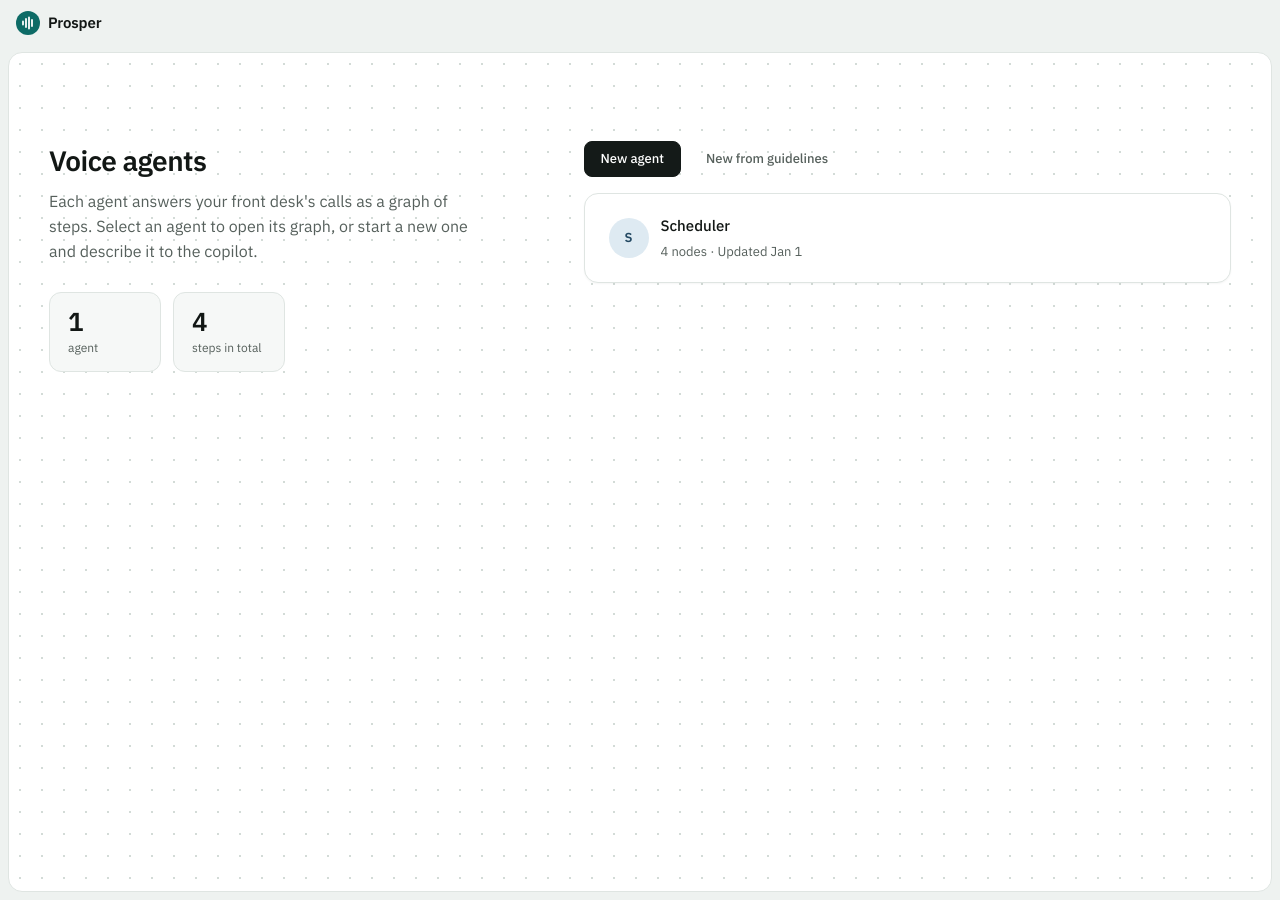
Test: a failed create shows a toast and leaves the list alone
expect the link "S Scheduler 4 nodes · Updated Jan 1" is shown: met, box [608,216,802,260]
Step 1. Click the button "New agent" → [632, 159], box [584,141,681,177]
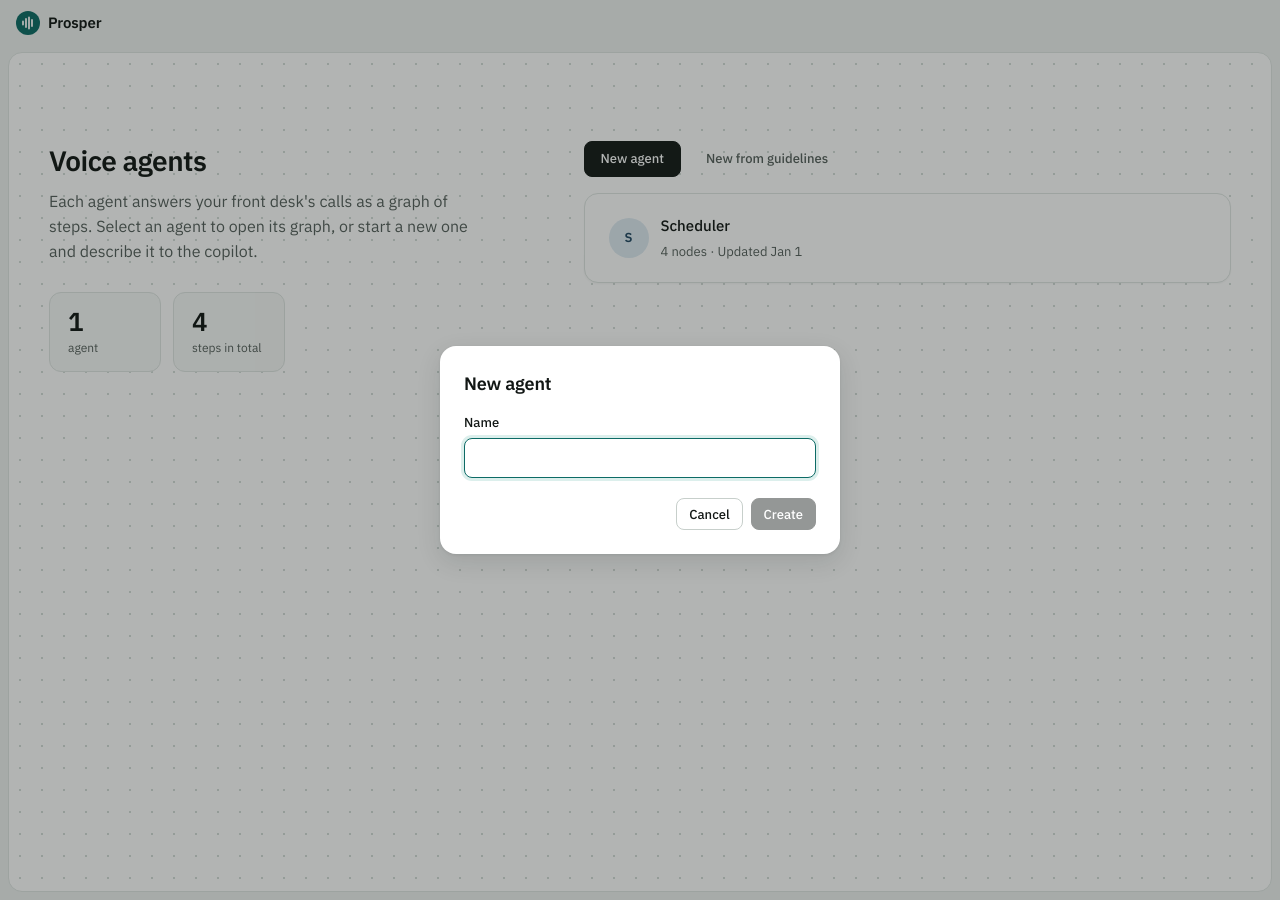
Step 2. Type "Intake" into the field labelled "Name" → [640, 458], box [464,438,816,478]
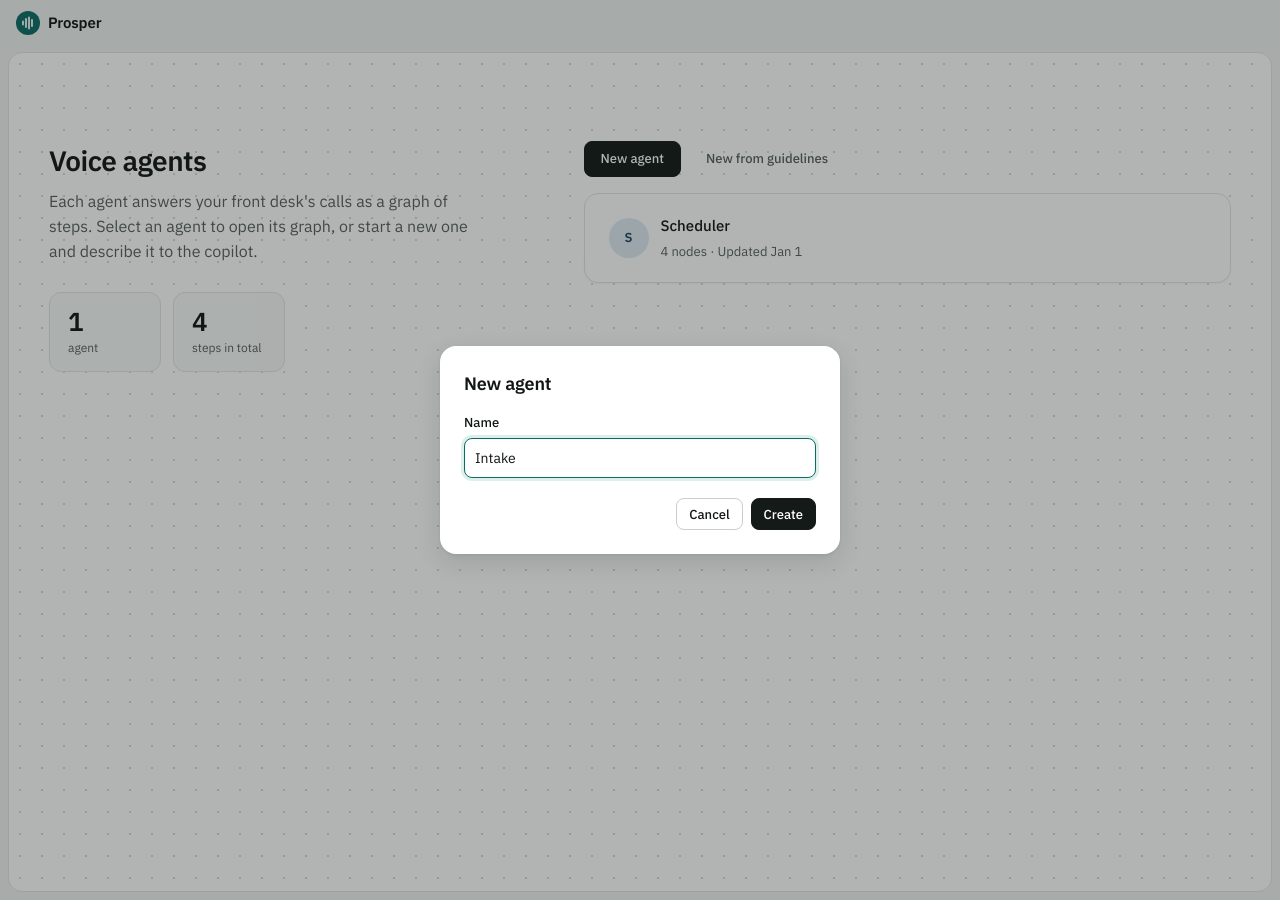
Step 3. Click the button "Create" → [783, 514], box [751,498,816,530]
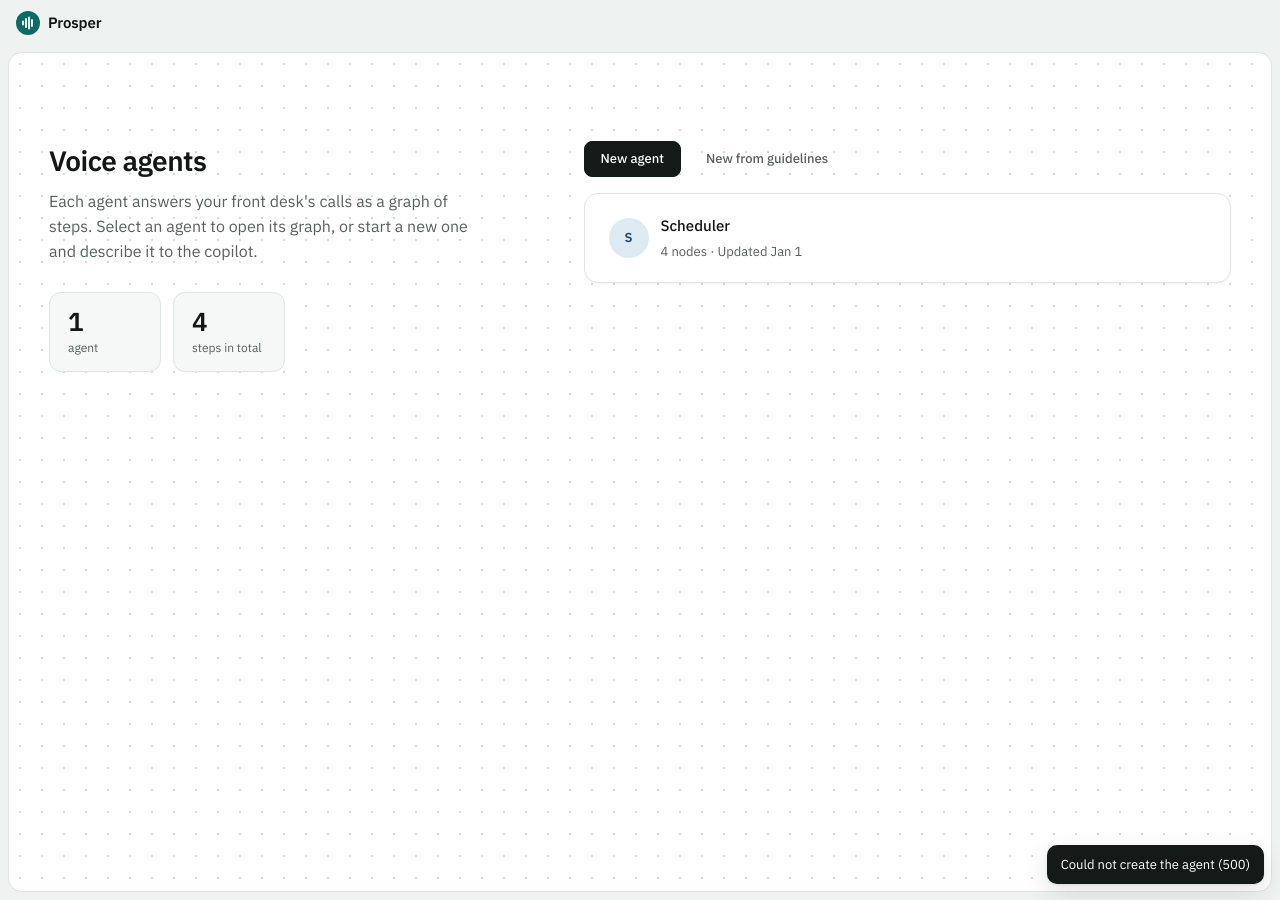
expect the link "Intake" is not shown: met
expect the message reads "Could not create the agent (500)": met, box [1061,856,1250,872]
